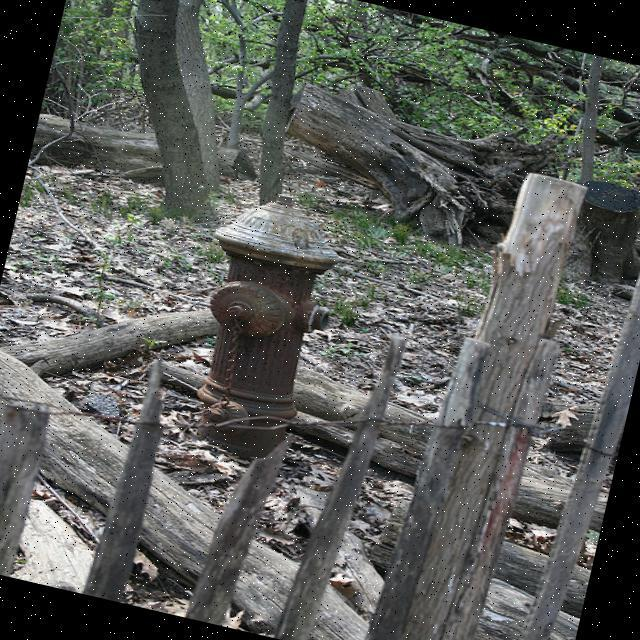fire_hydrant: (164, 180, 358, 475)
